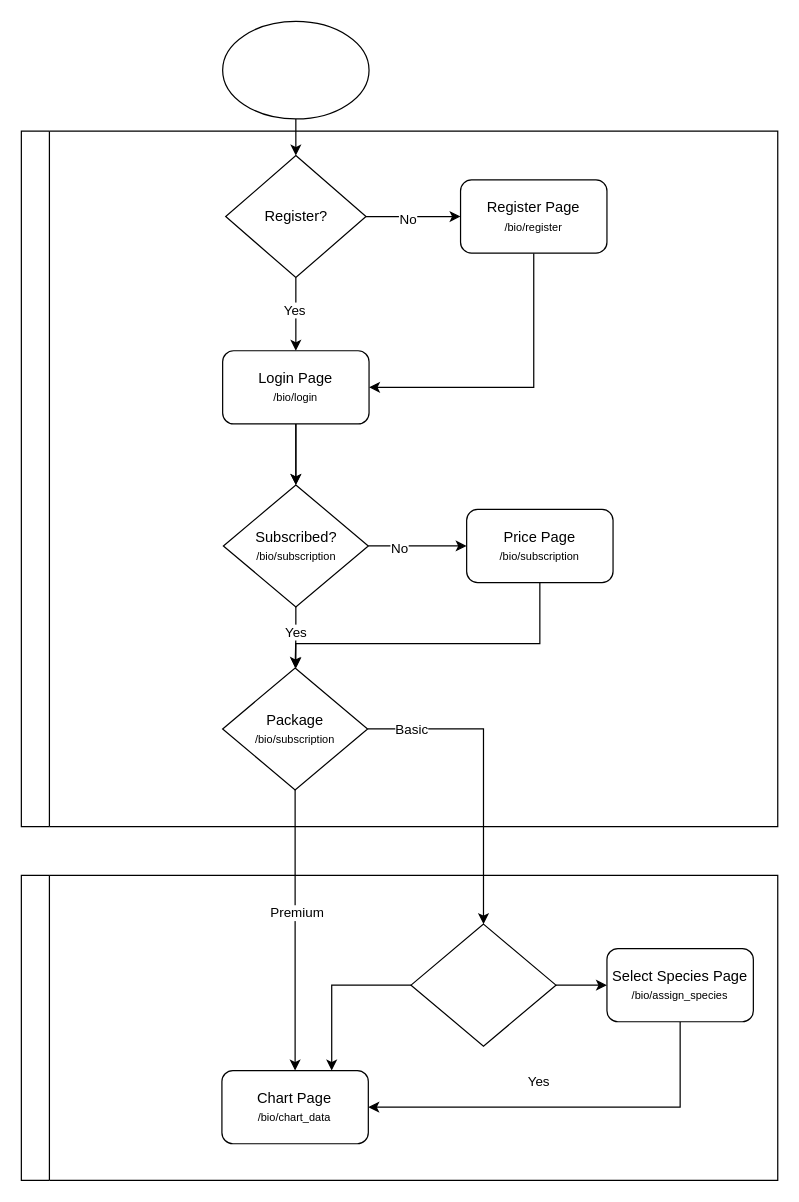
Image size: 799x1202. Some labels were removed from this diagram. The box of each missing label's shape, as (x1, y1, x2, y2) in pixels:
Developer Token: (20, 130, 778, 827)
Have Species? /bio/species: (410, 923, 556, 1046)
Start: (221, 20, 369, 119)
User Token: (20, 874, 778, 1180)
